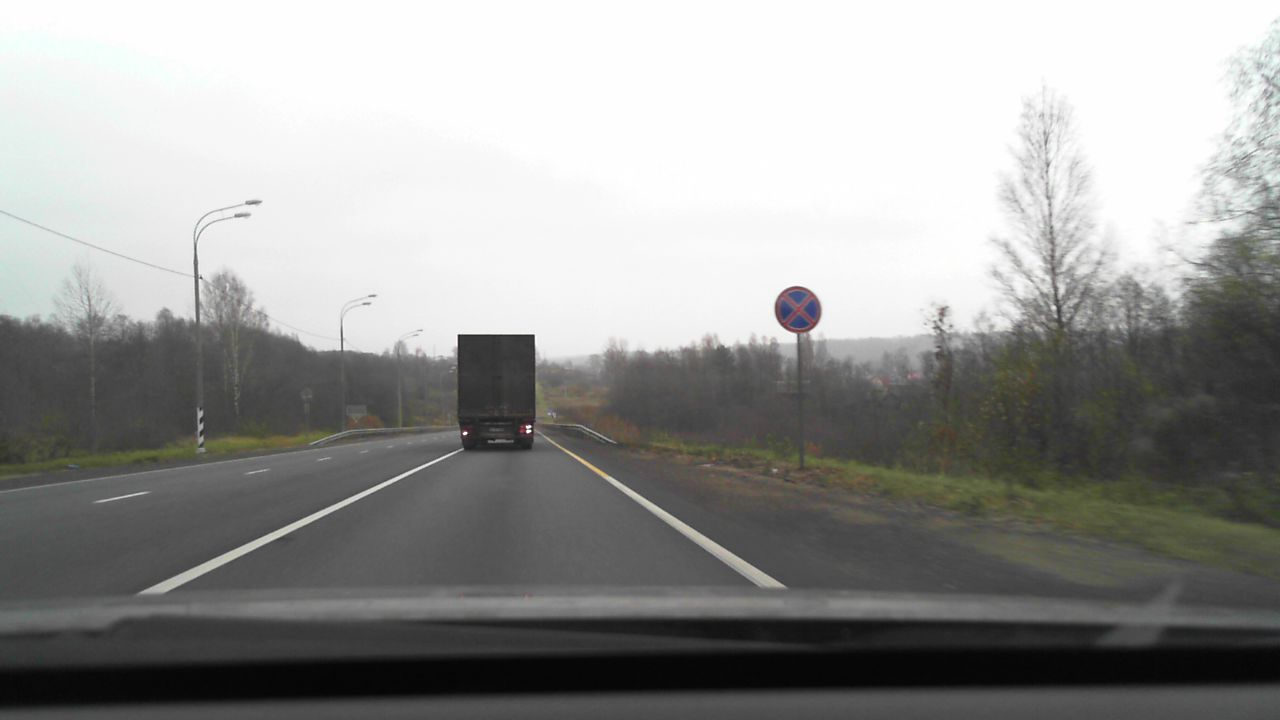No Parking: (774, 286, 821, 333)
